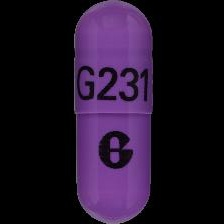70786-0231: (0, 0, 224, 224)
